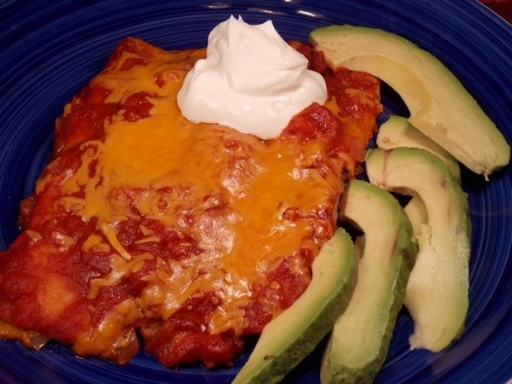background: (0, 8, 410, 230)
